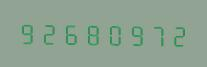eight: (80, 19, 100, 46)
nine: (17, 18, 37, 45), (122, 20, 142, 47)
seven: (143, 20, 163, 48)
six: (59, 19, 79, 46)
two: (38, 18, 58, 46), (164, 21, 184, 48)
zero: (101, 19, 121, 47)
